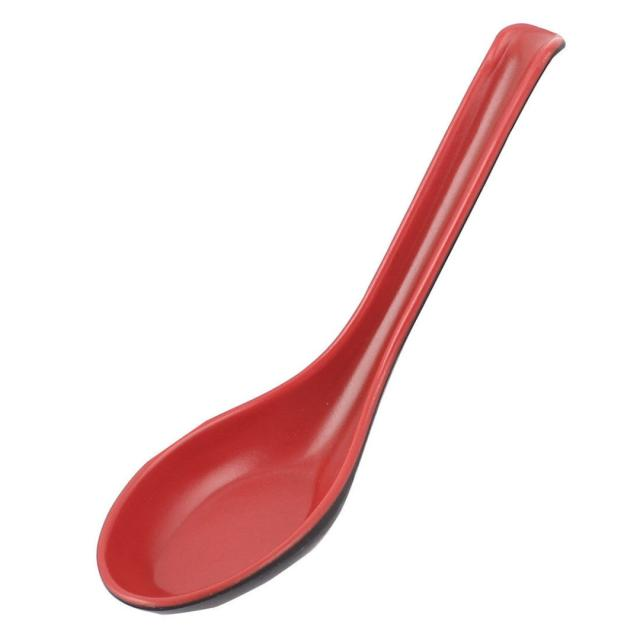spoon: (89, 4, 576, 624)
